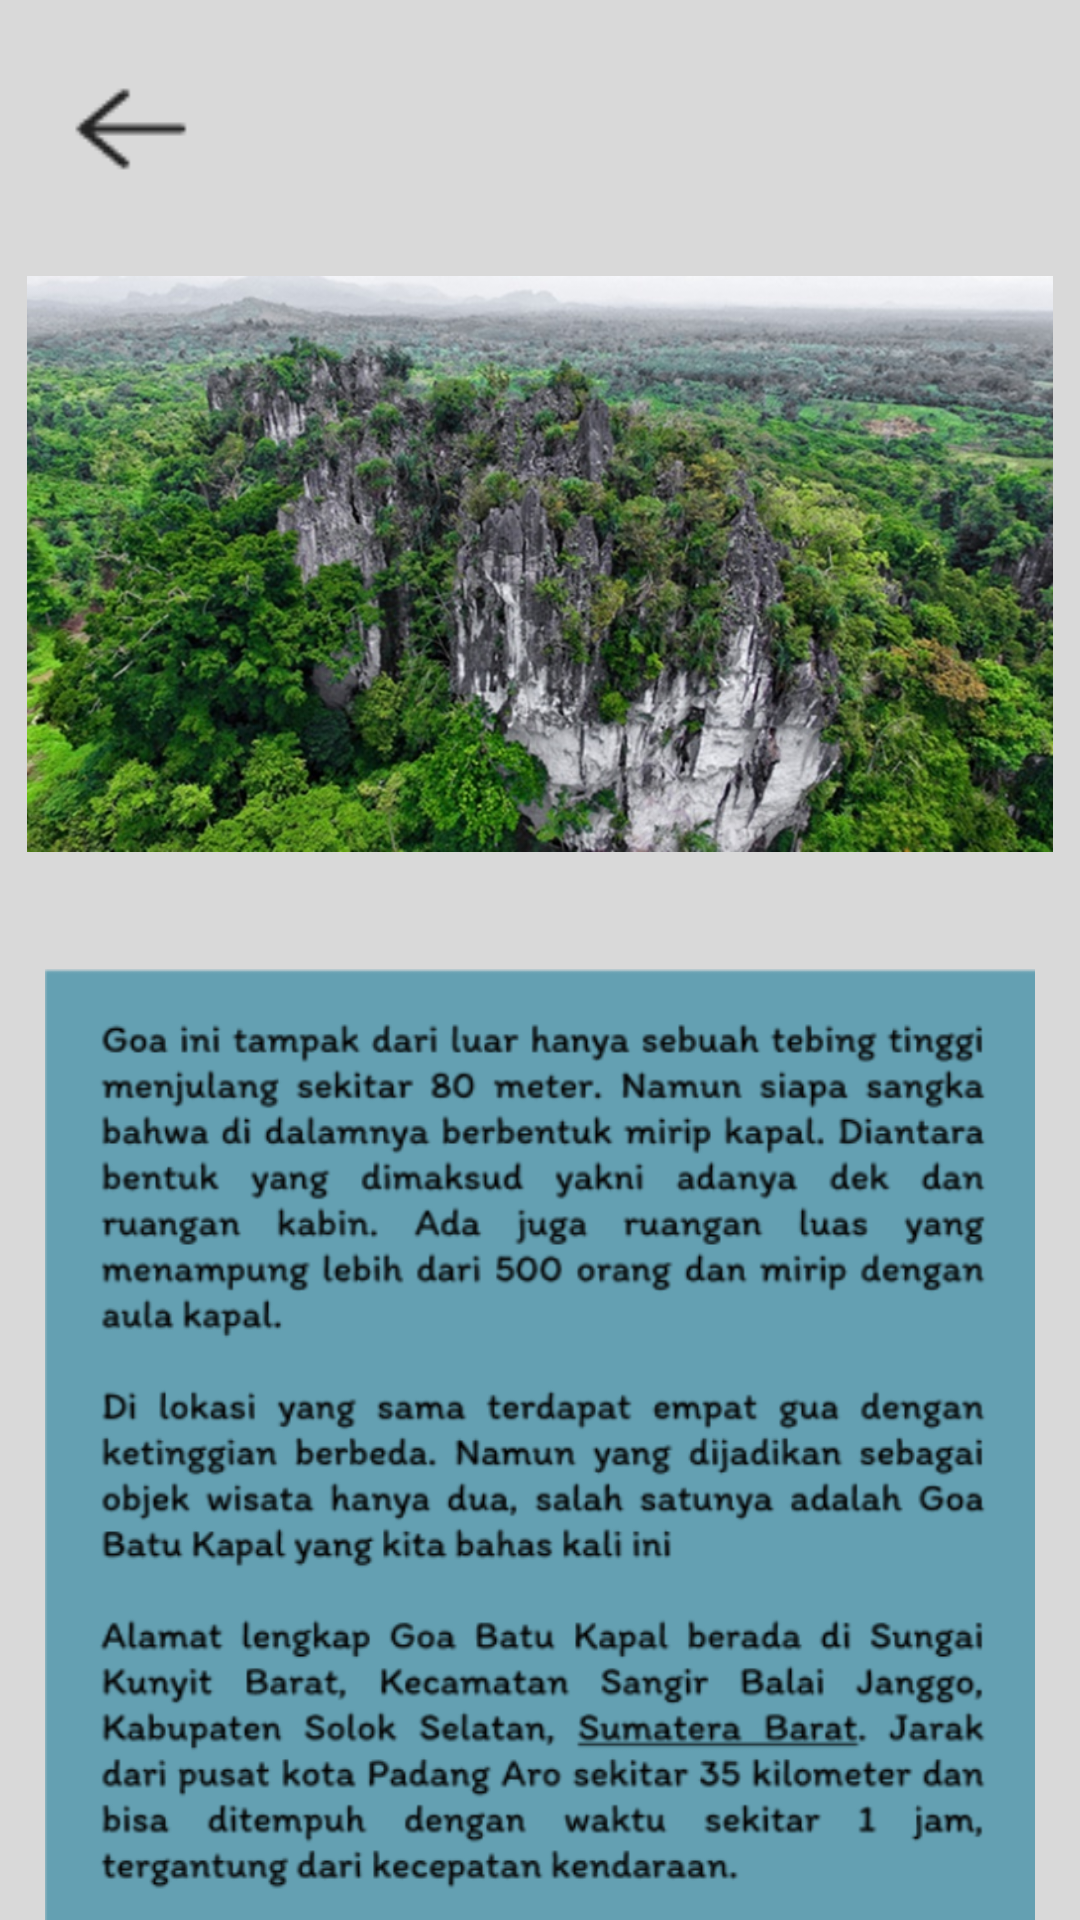

Screen size 1080 × 1920. Icon name, then its center in pixels as (x,y):
back: (131,129)
